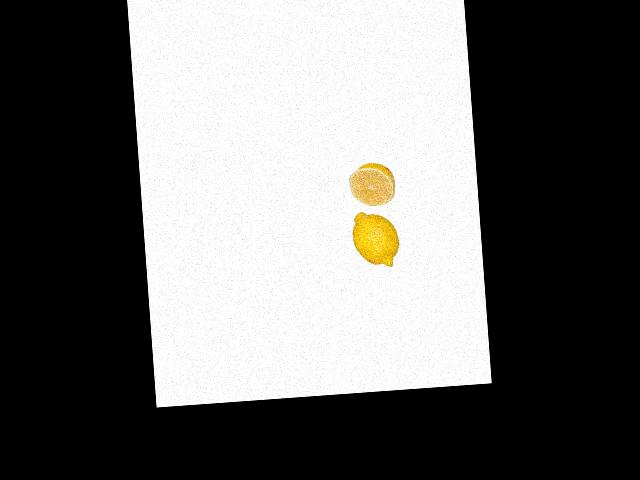lemon: (350, 209, 401, 267)
